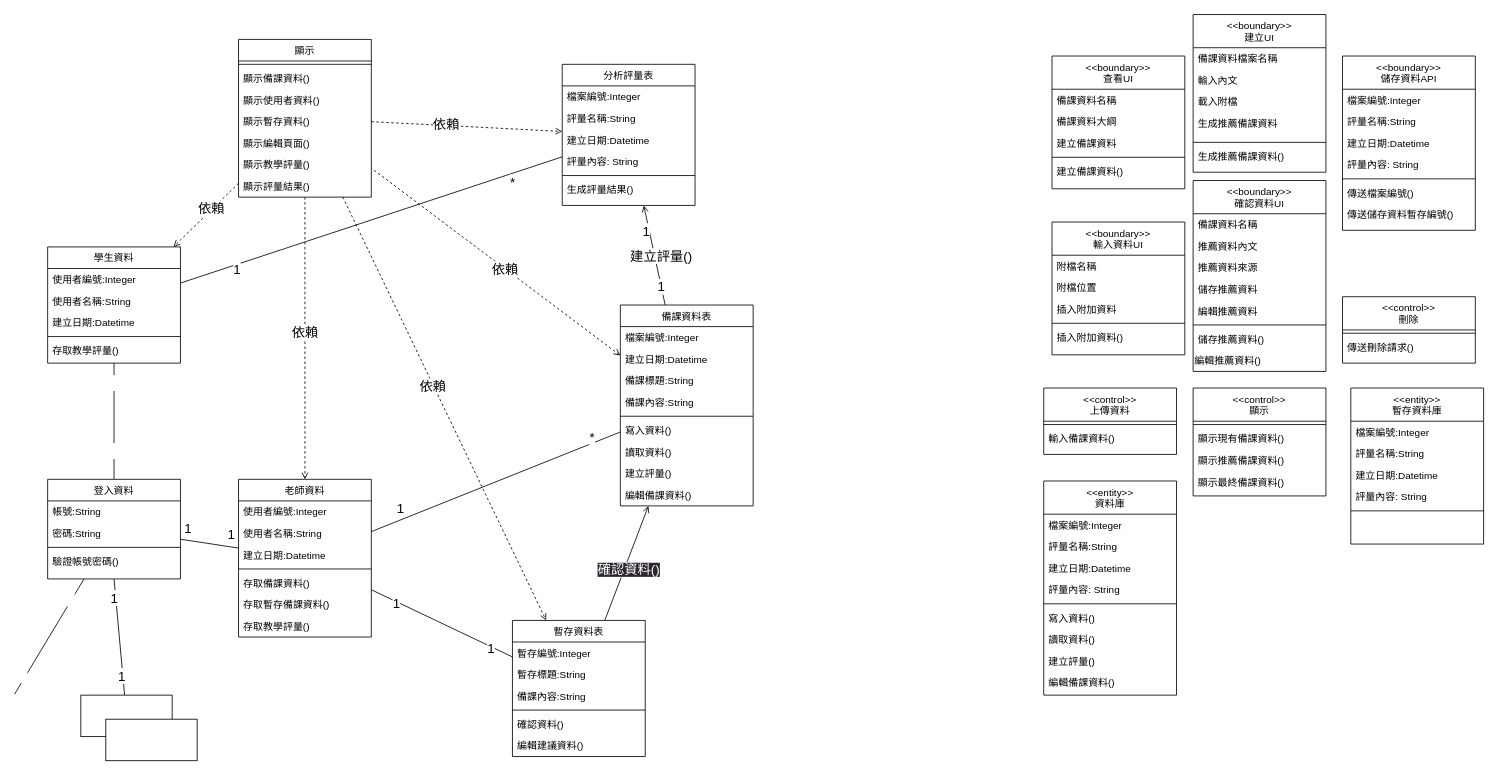
The diagram is 1498 pixels wide and 775 high, and some of its shapes have lost their labels. The centre of each missing label's shape, as x and y in pixels:
"學生" goes at (151,739).
"老師" goes at (126,715).
